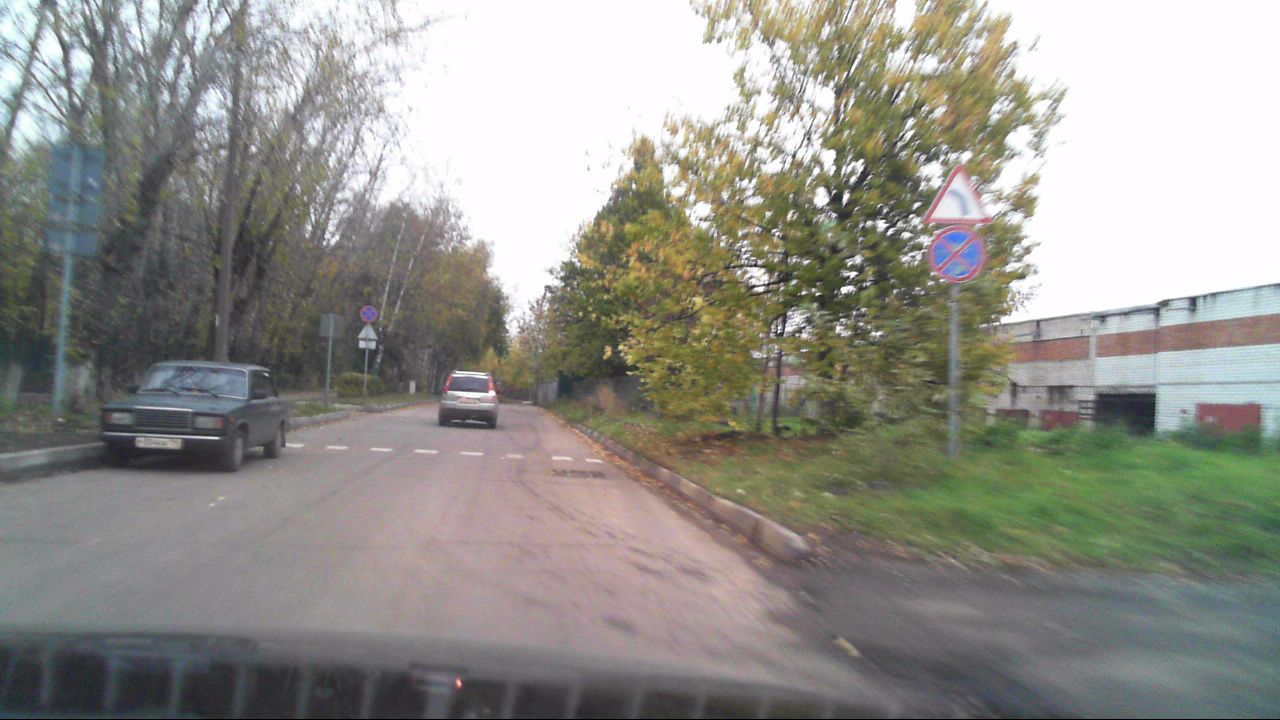No Parking: (928, 227, 982, 281)
